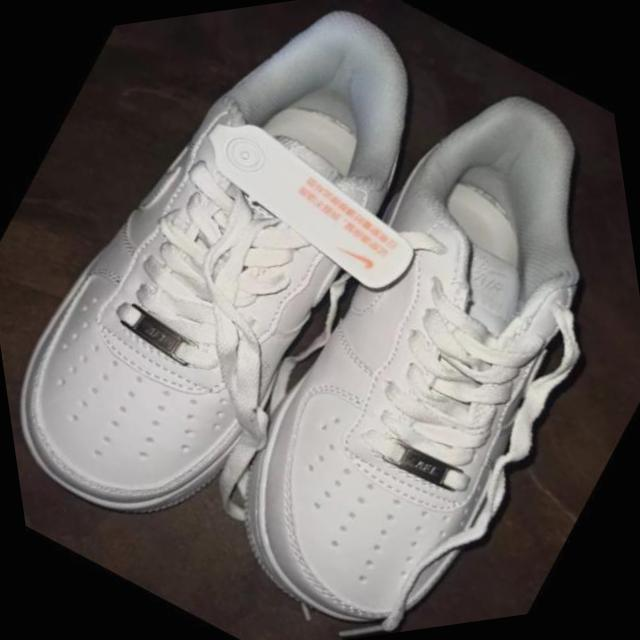nike_fake_airforce: (133, 35, 640, 640), (0, 0, 525, 583)
